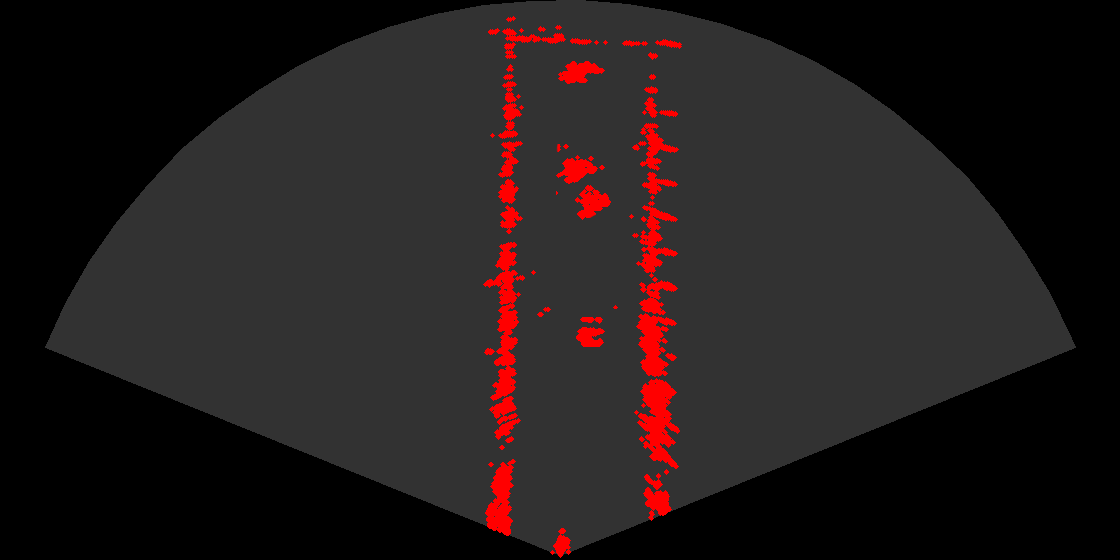AUV: (552, 59, 608, 91)
ball: (556, 309, 616, 350)
cage: (556, 144, 619, 228)
